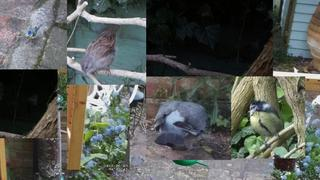blue tit: (247, 100, 283, 149), (25, 24, 43, 47)
dunnock: (80, 24, 122, 78)
wood pigeon: (153, 100, 207, 152)
